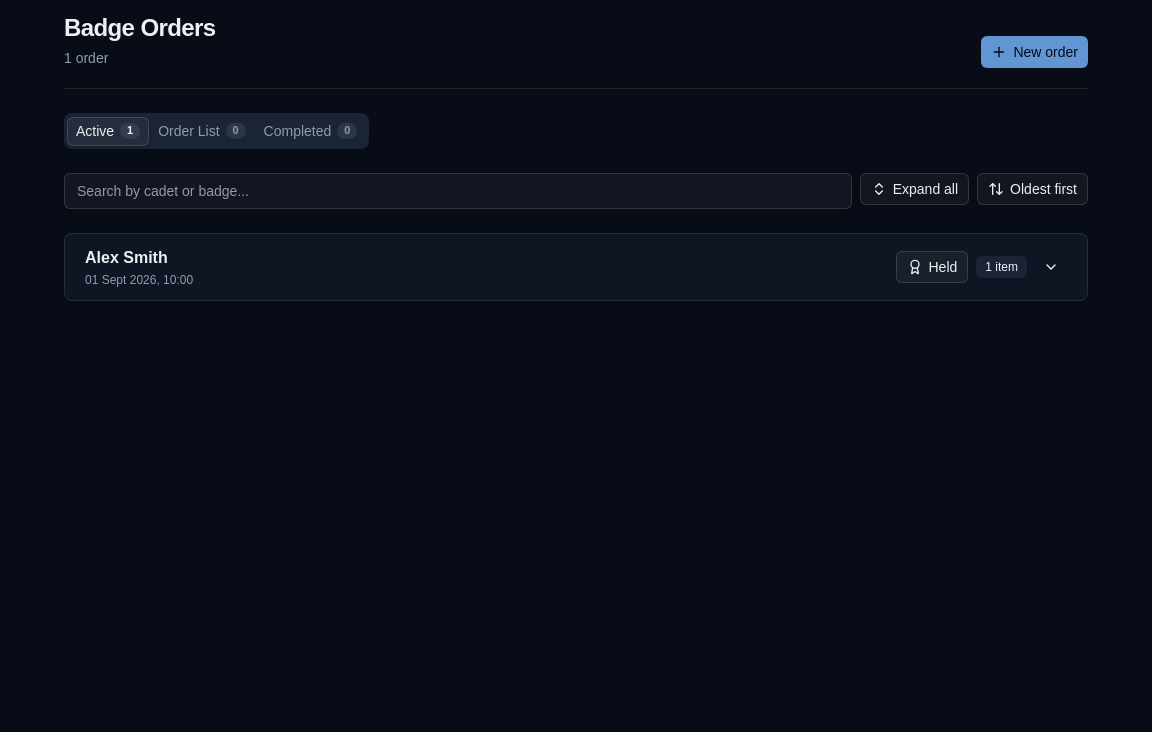
Test: Blue Flying stages › says nothing about stages once it's held
Check: the link "Alex Smith" is shown, box [85,246,168,270]
What coordinates should you click on to do the following:
click the button named "Expand order for Alex Smith"
I would click on:
 (1051, 267)
Its box is [1035,251,1067,283].
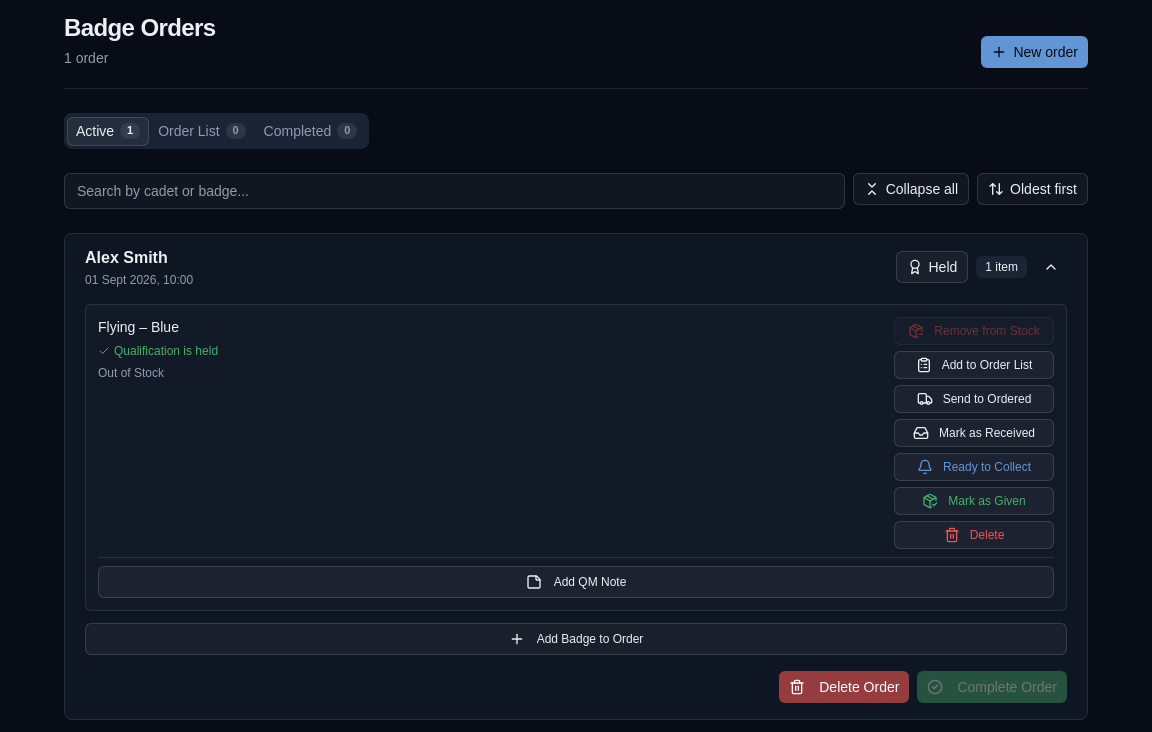
Check: the text "Qualification is held" is shown, box [98,344,218,358]
